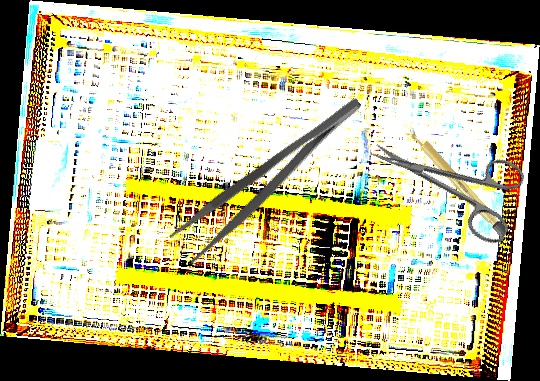Dressing Forceps: (167, 93, 377, 266)
Iris Scissors: (358, 109, 534, 248)
Scalpel Handle: (406, 125, 510, 238)
